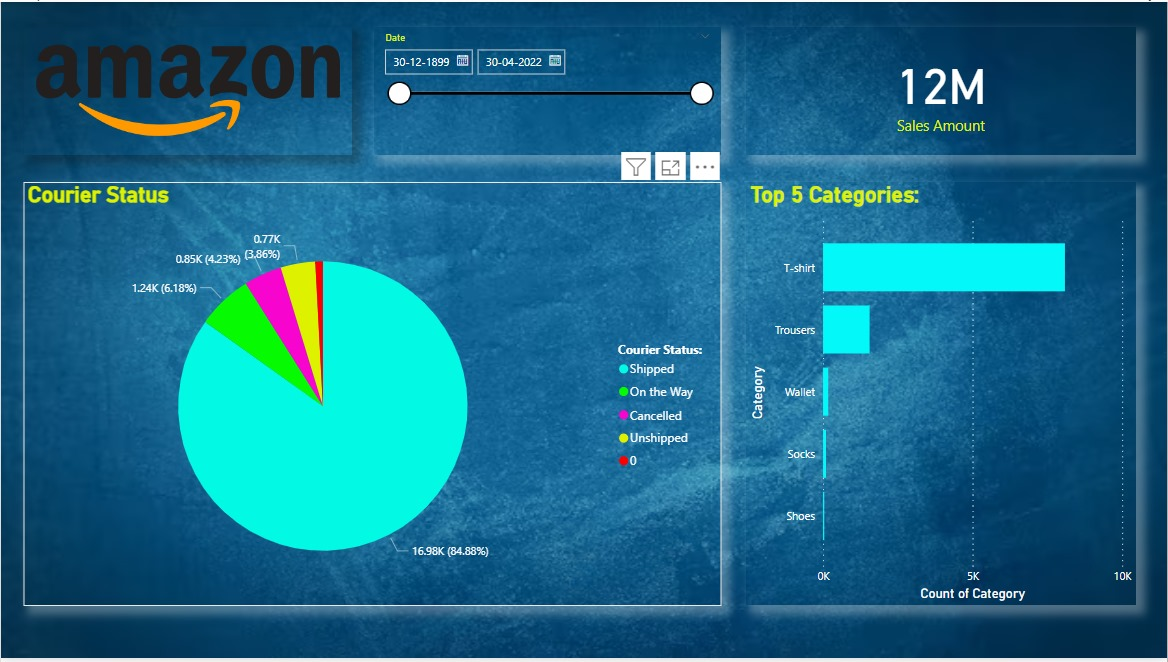

Layout of this report page (visuals, bound fields, positions):
{"tool":"powerbi","page":{"name":"Page 1","canvas":[1280,720],"ordinal":0},"visuals":[{"type":"card","fields":{"Values":["Sum(Amazon Sale Report.Amount)"]},"box":[817.8,27.4,428.1,140],"z":0},{"type":"slicer","fields":{"Values":["Amazon Sale Report.Date"]},"box":[408.9,27.4,381.5,140],"z":1000},{"type":"image","box":[24.7,27.4,360.9,140],"z":2000},{"type":"barChart","title":"Top 5 Categories:","fields":{"Category":["Amazon Sale Report.Category"],"Y":["CountNonNull(Amazon Sale Report.Category)"]},"box":[817.8,197.6,428.1,465.2],"z":3000},{"type":"pieChart","title":"Courier Status","fields":{"Category":["Amazon Sale Report.Courier Status"],"Y":["CountNonNull(Amazon Sale Report.Courier Status)"]},"box":[24.7,197.6,765.7,465.2],"z":4000}]}

Visuals, with their boxes in screenshot pixels (x1, y1, x2, y2), scaled from the page's 1280x720 canvas onto the 1168x662 screenshot:
card - Sum(Amazon Sale Report.Amount): x1=746, y1=25, x2=1137, y2=154
slicer - Amazon Sale Report.Date: x1=373, y1=25, x2=721, y2=154
image: x1=23, y1=25, x2=352, y2=154
"Top 5 Categories:" barChart: x1=746, y1=182, x2=1137, y2=609
"Courier Status" pieChart: x1=23, y1=182, x2=721, y2=609
